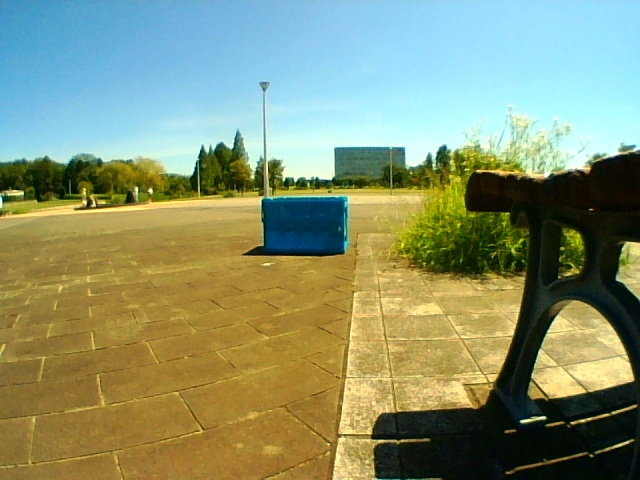blue_box: (263, 198, 346, 253)
